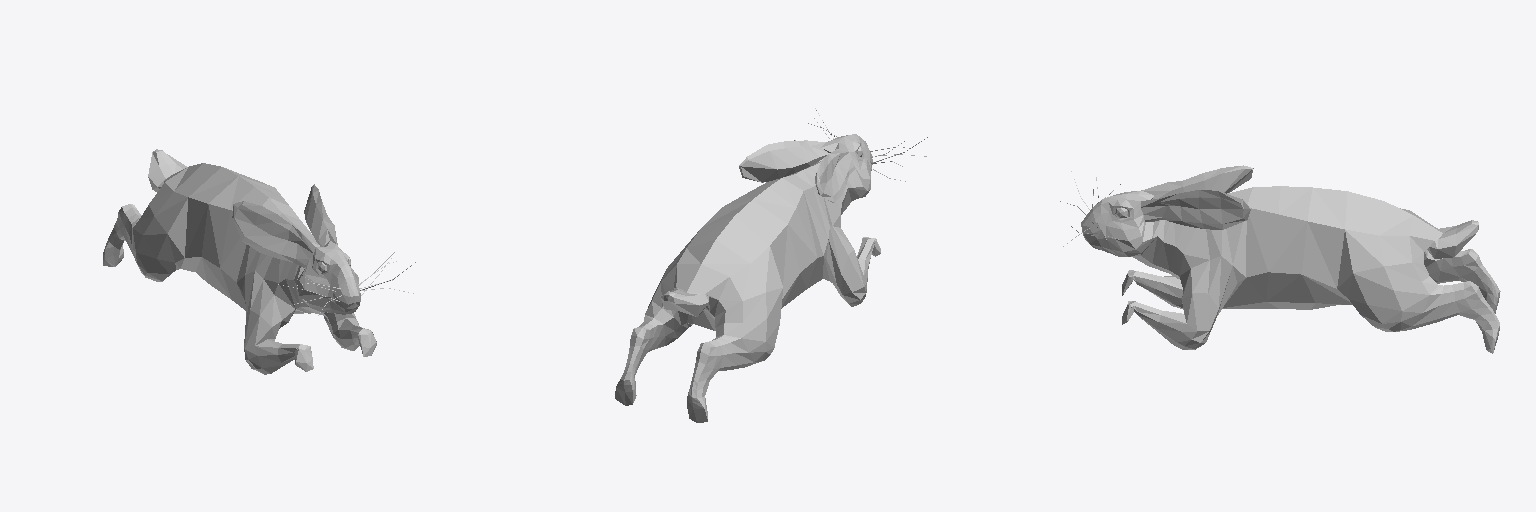
The model's file is rabbit_4.obj.
3 views of the same model, side by side, from view 1: azimuth 30°, elevation 25°; view 2: azimuth 150°, elevation 25°; view 3: azimuth 270°, elevation 25° (orthographic).
Parts seen in each view (by area): view 1: Rabbit_Cylinder; view 2: Rabbit_Cylinder; view 3: Rabbit_Cylinder.
Part boxes in pixels (x1,y1,x2,y2): Rabbit_Cylinder: (103, 149, 415, 374); Rabbit_Cylinder: (615, 108, 927, 422); Rabbit_Cylinder: (1060, 165, 1500, 353).
Size of the model in its own units: 6.98 by 9.14 by 22.62.